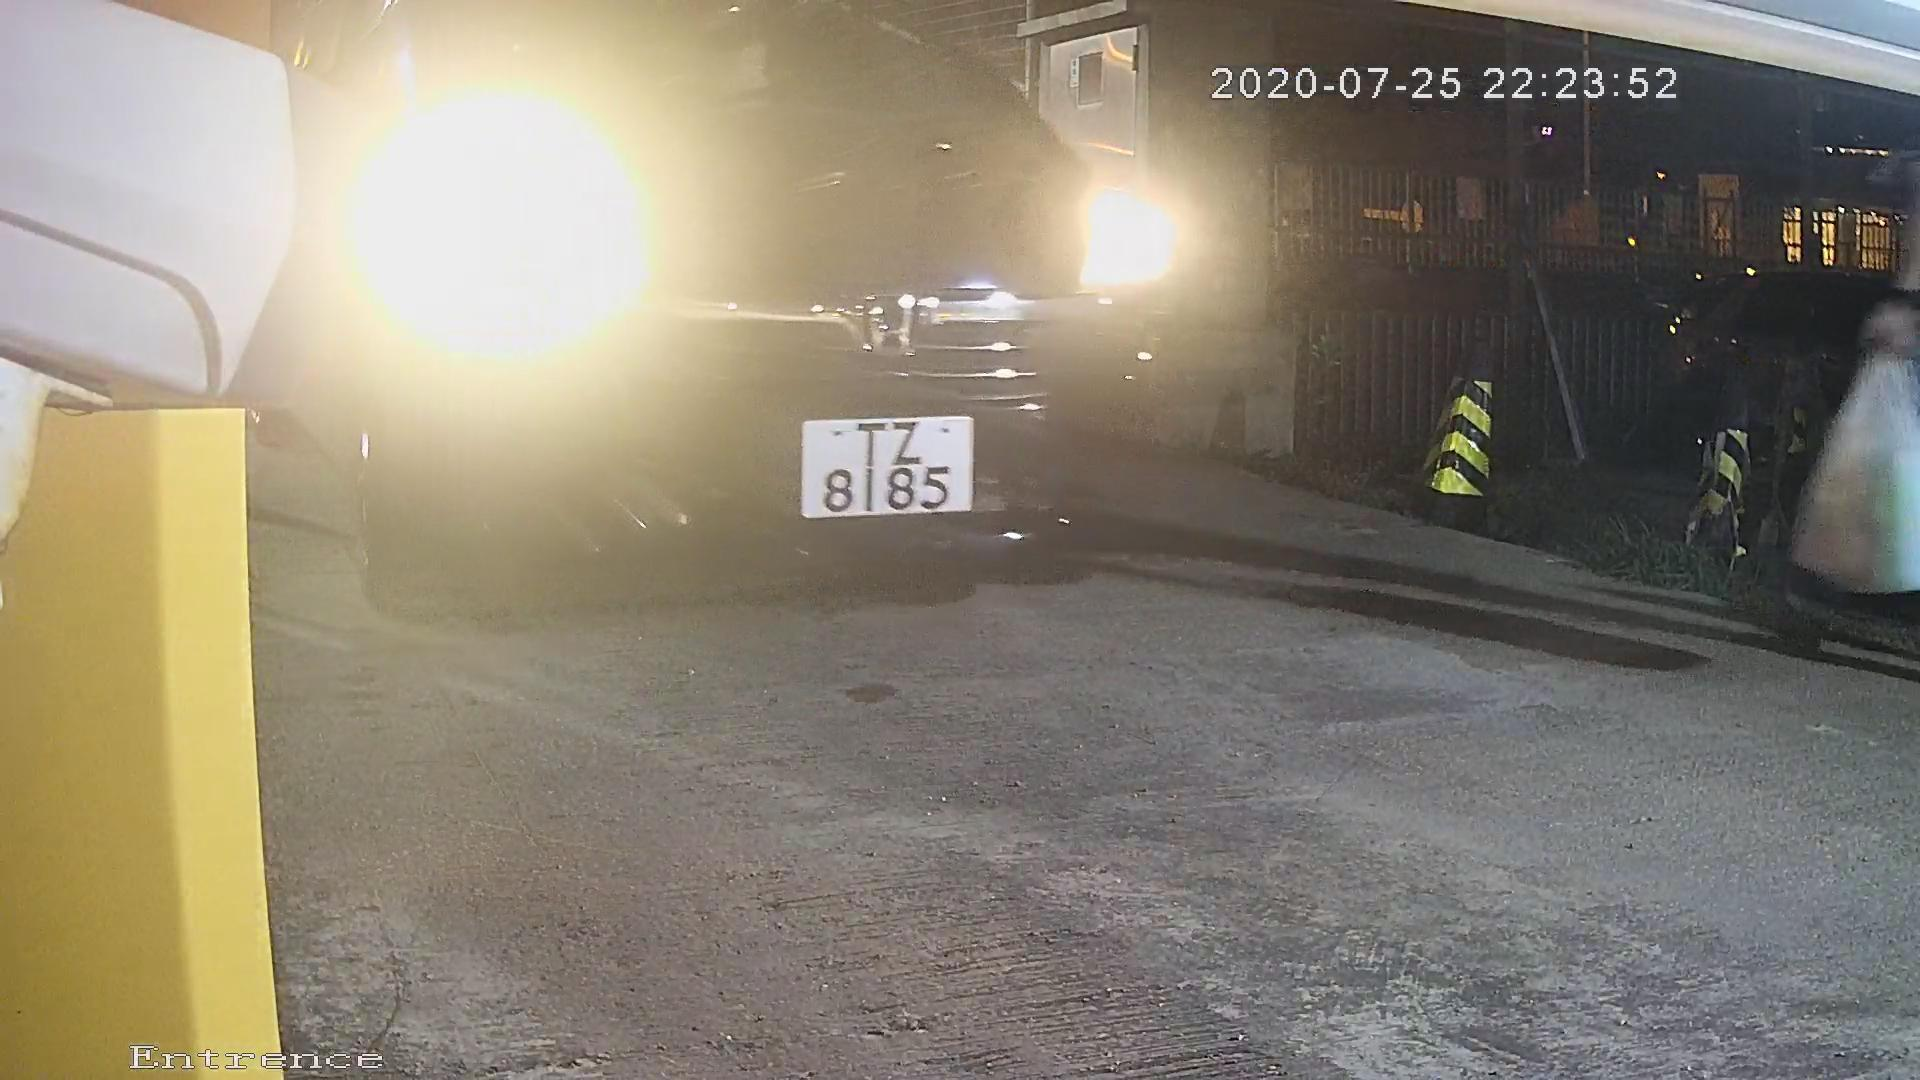privatecar: (284, 5, 1466, 593)
